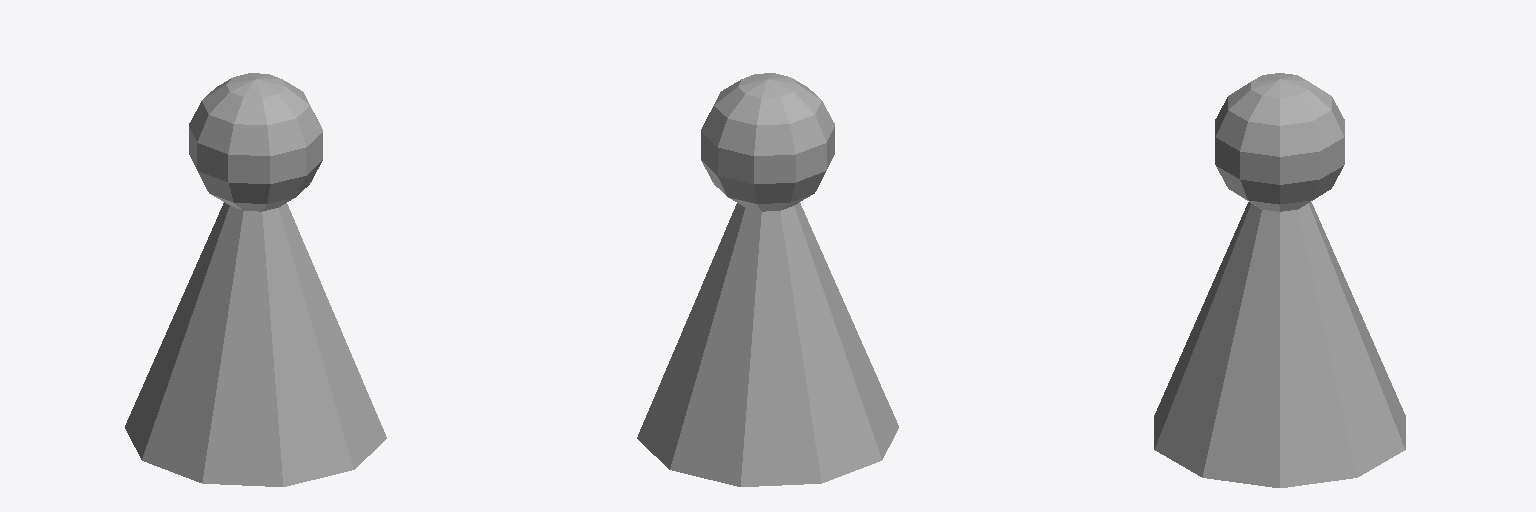
Rendered from man.obj.
The picture shows the model from 3 angles: view 1: azimuth 30°, elevation 25°; view 2: azimuth 150°, elevation 25°; view 3: azimuth 270°, elevation 25°; orthographic projection.
Visible parts, largest first — view 1: sphere; view 2: sphere; view 3: sphere.
Part boxes in pixels (x1,y1,x2,y2): sphere: (125, 73, 386, 486); sphere: (637, 73, 898, 486); sphere: (1154, 73, 1405, 487).
Size of the model in its own units: 0.4355 by 0.6429 by 0.4142.